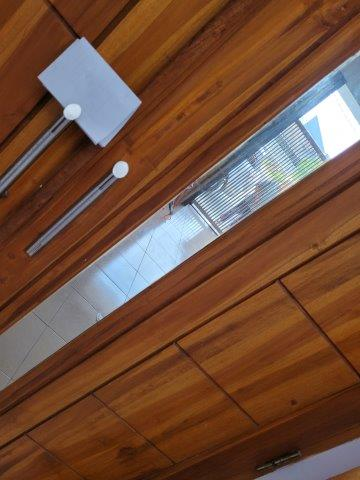kertas: (36, 38, 142, 146)
